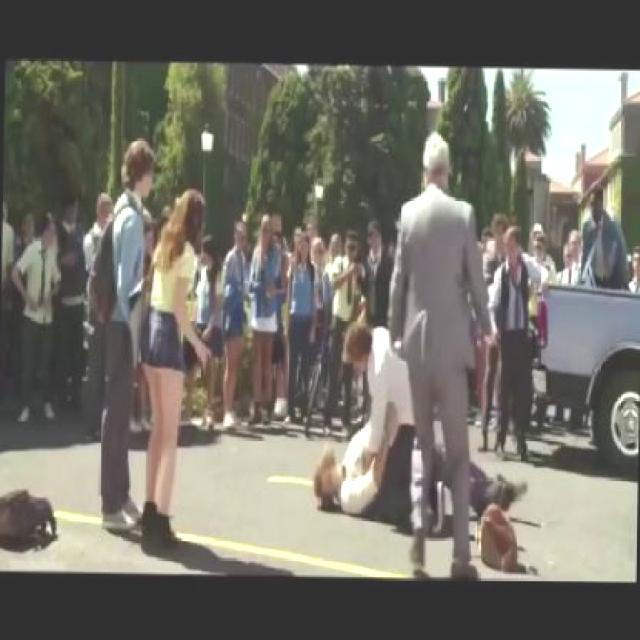fight: (308, 322, 416, 522)
non-fight: (134, 184, 210, 547), (96, 128, 162, 534)
